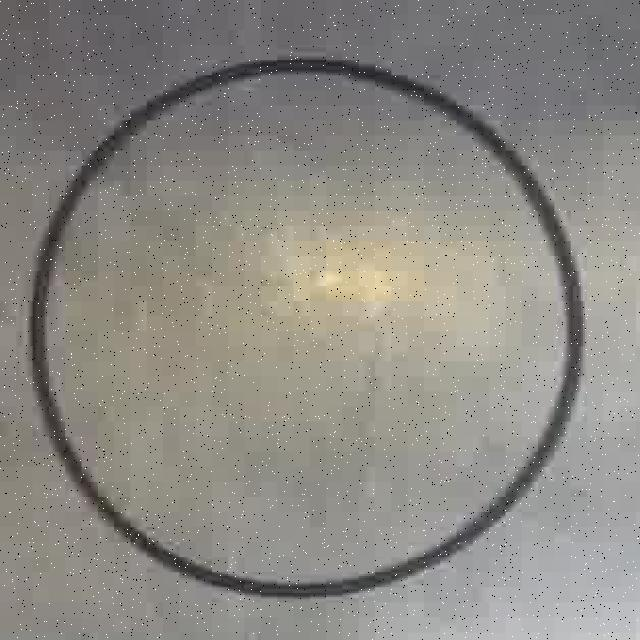Circle: (26, 54, 588, 596)
